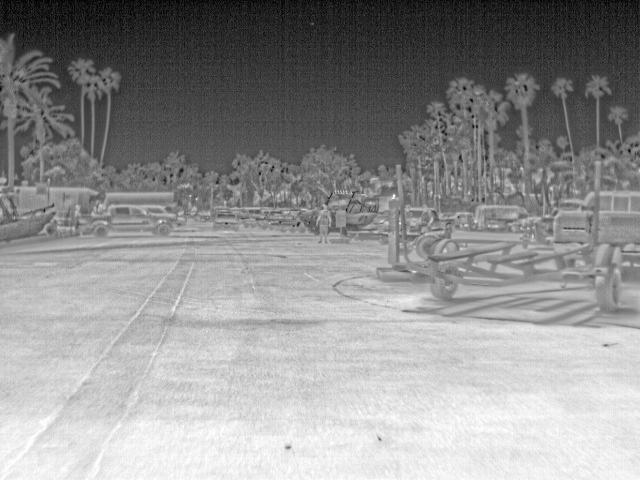car: (76, 204, 173, 238), (549, 192, 593, 247), (600, 188, 639, 248), (473, 202, 531, 234), (408, 205, 457, 237), (210, 210, 242, 232), (133, 206, 175, 220)
person: (315, 200, 333, 244)
